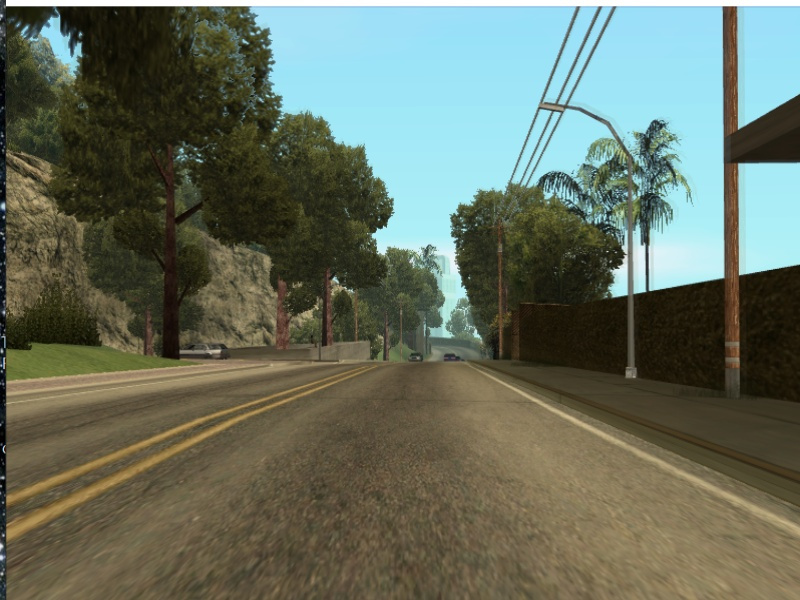pole: (718, 9, 746, 402), (624, 148, 643, 383), (159, 180, 181, 360), (496, 249, 506, 362)
vehicle: (184, 342, 231, 363), (407, 350, 422, 361), (444, 351, 457, 362)
